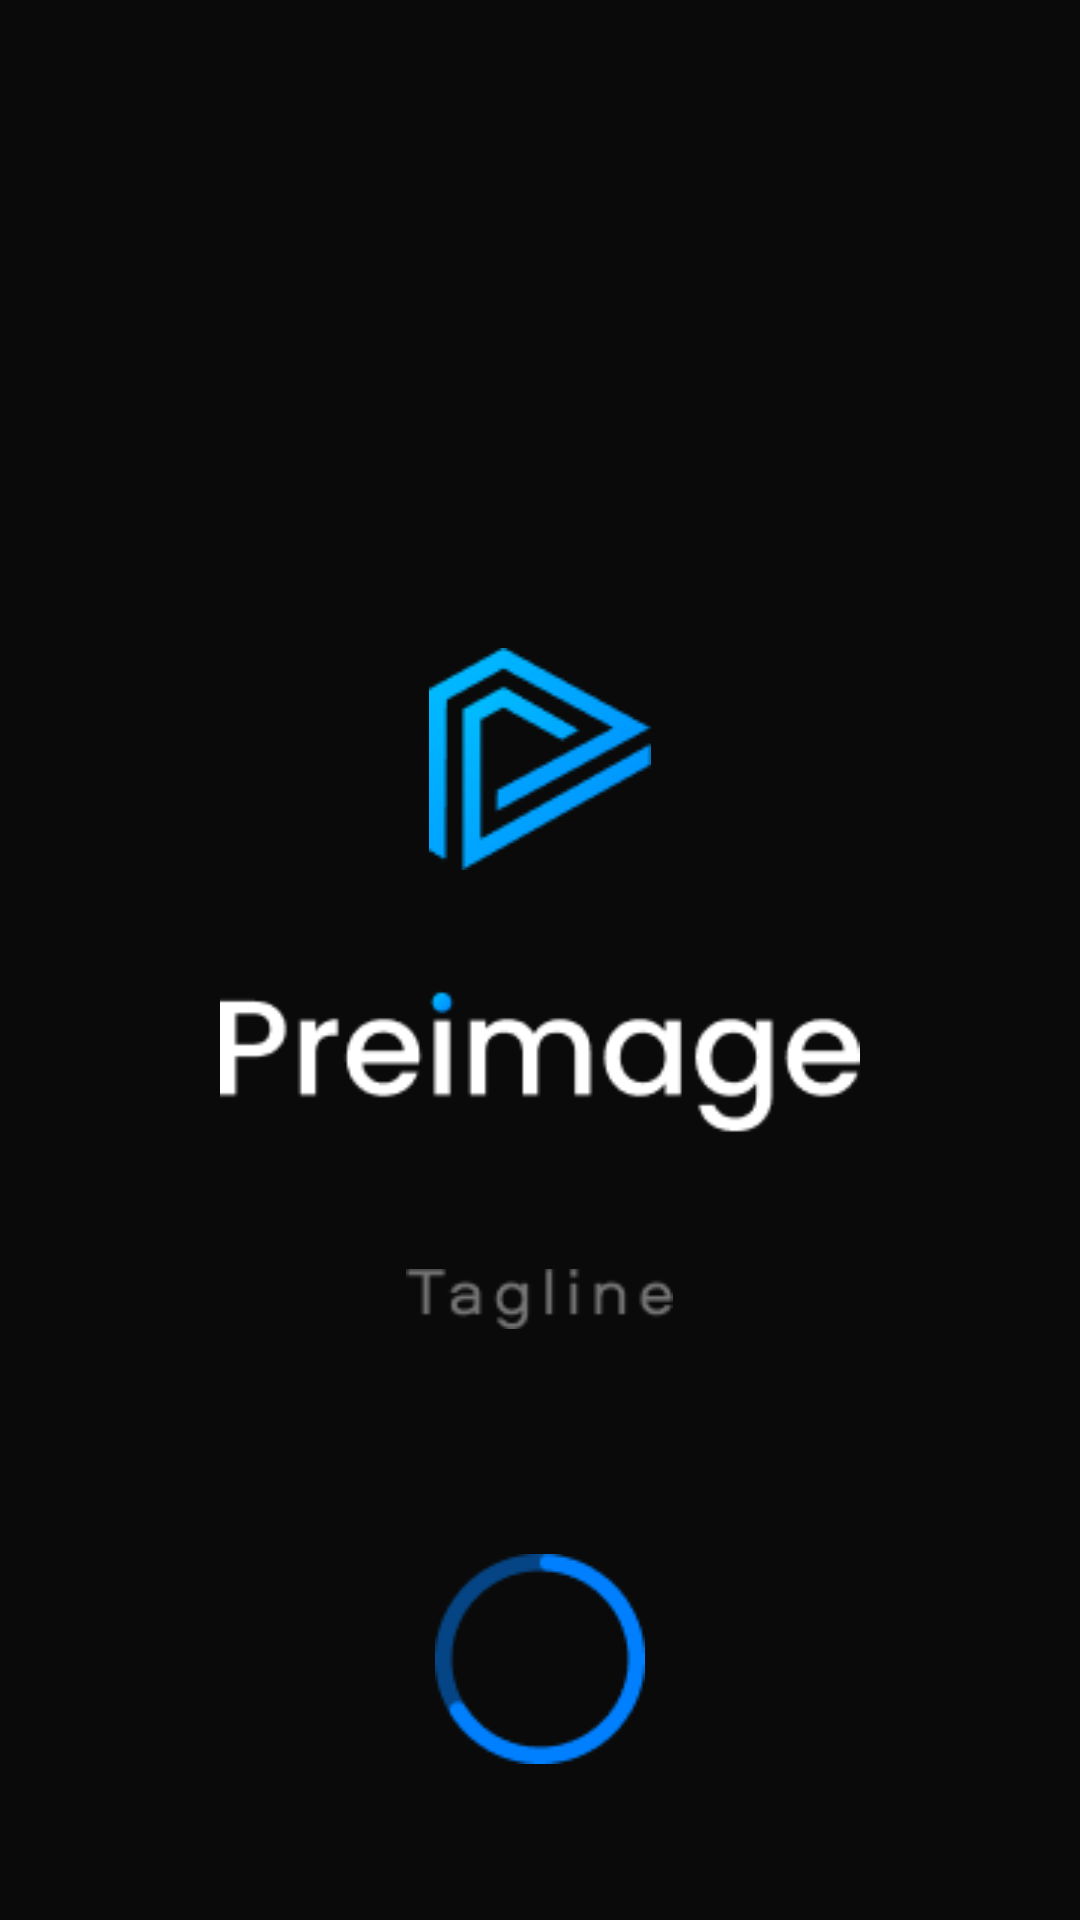

Locate icon controls on the screen. Image size 1080x1920, boxes as (x1, y1, x2, y2).
loading: (435, 1554, 645, 1764)
